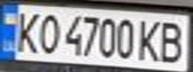0: (115, 16, 139, 61), (97, 15, 118, 60)
4: (60, 11, 84, 56)
7: (78, 12, 100, 57)
B: (154, 18, 190, 64)
K: (9, 8, 42, 54), (136, 17, 163, 63)
O: (33, 10, 60, 55)
